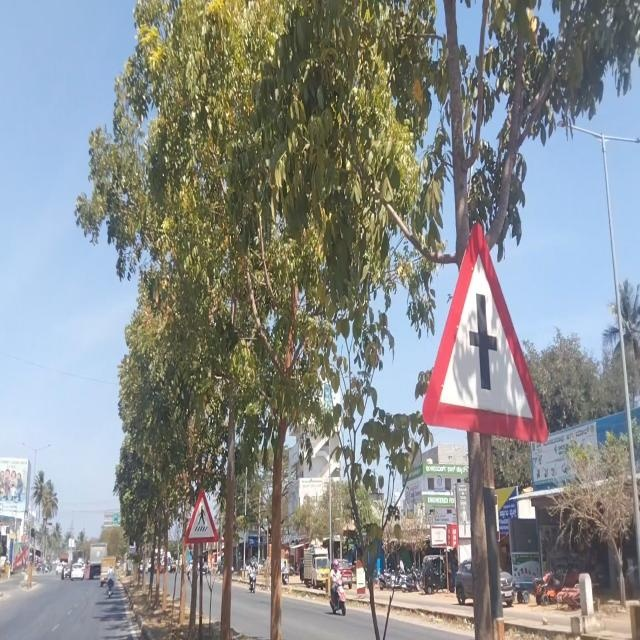bien_nguy_hiem: (424, 217, 552, 440), (182, 488, 219, 545)
